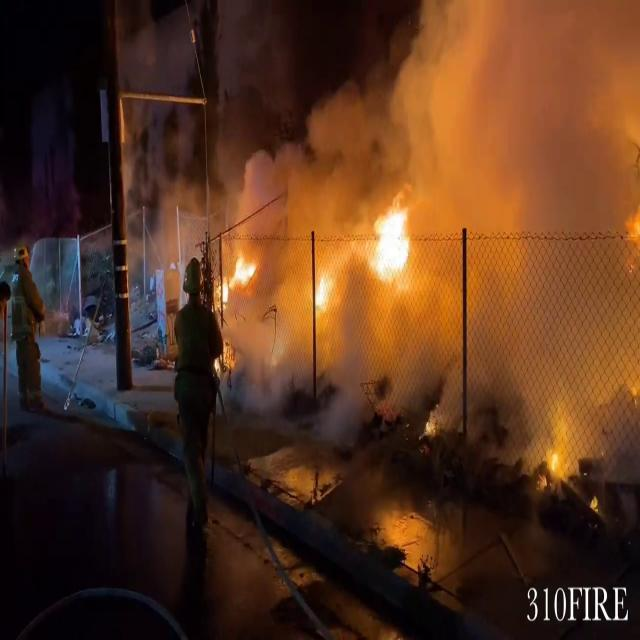Fire: (366, 196, 422, 284), (222, 241, 258, 315), (312, 260, 334, 326)
Smoke: (128, 0, 639, 381)
